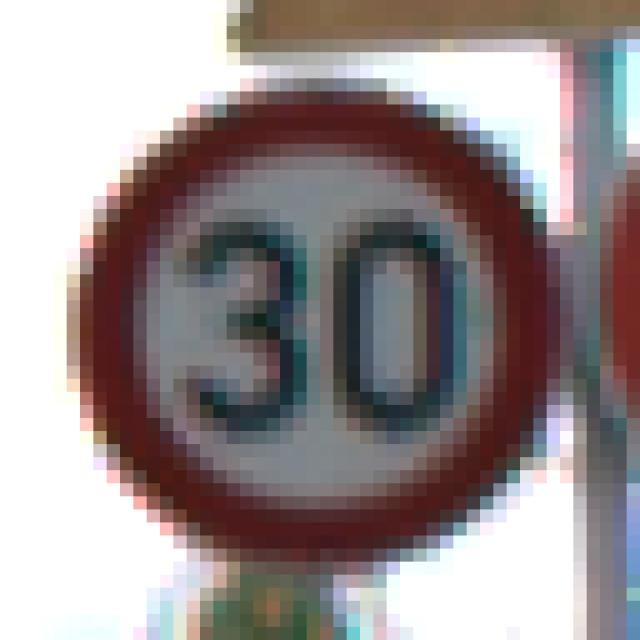Speed Limit -30-: (60, 72, 553, 555)
